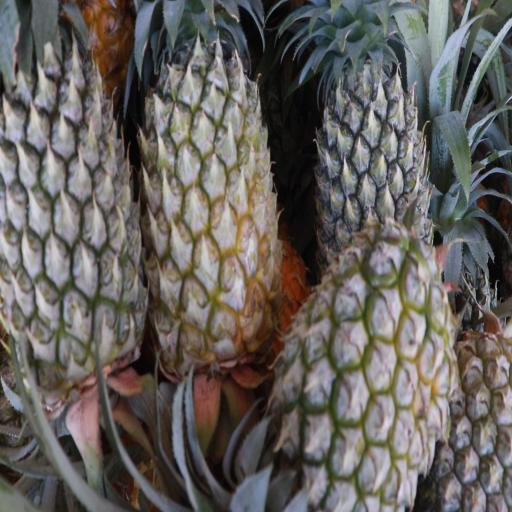------------------------------: (139, 0, 275, 367), (276, 241, 447, 508)
